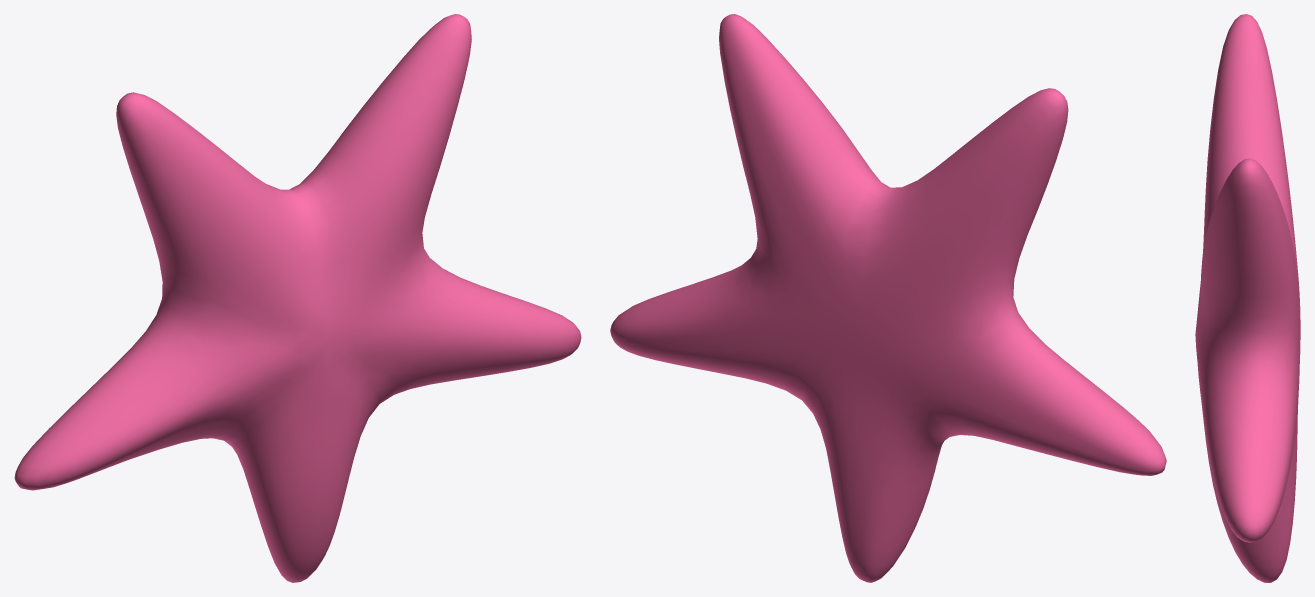
The picture shows the model from 3 angles, left to right: view 1: azimuth 30°, elevation 25°; view 2: azimuth 150°, elevation 25°; view 3: azimuth 270°, elevation 25°; orthographic projection. The views are drawn at different scales.
Parts seen in each view (by area): view 1: shadeOrange_01; view 2: shadeOrange_01; view 3: shadeOrange_01.
Part boxes in pixels (x1,y1,x2,y2): shadeOrange_01: (14,14,581,582); shadeOrange_01: (610,14,1166,582); shadeOrange_01: (1195,14,1300,582).
Bounding box in the file's own units: 0.7489 × 0.6816 × 0.1329.
